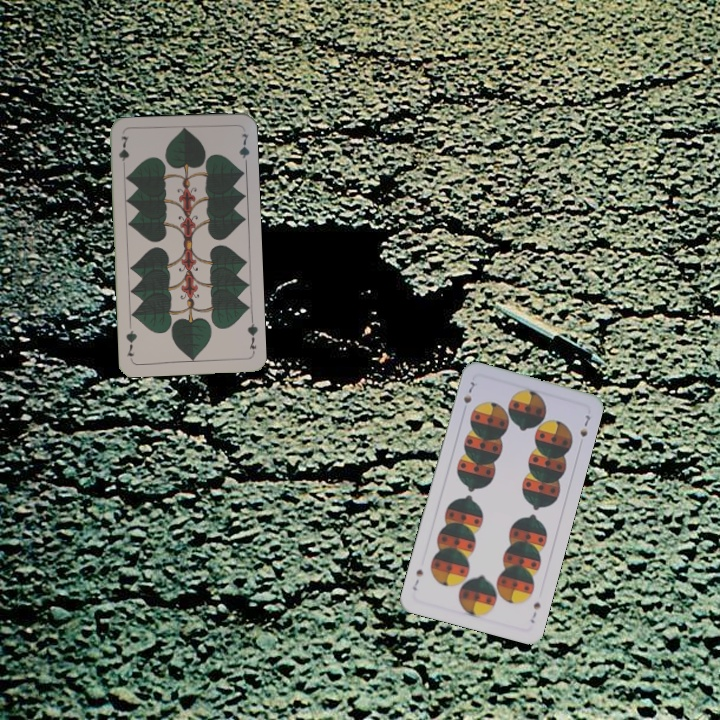G7: (115, 132, 131, 173), (244, 315, 260, 356)
S7: (459, 378, 477, 406), (526, 598, 543, 626)
